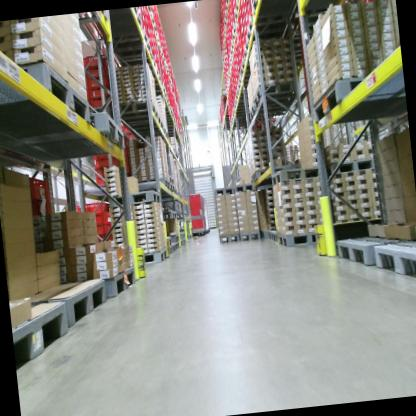pallet: (0, 56, 92, 139), (12, 105, 127, 158), (309, 68, 407, 125), (26, 270, 110, 335), (9, 298, 75, 377), (337, 230, 398, 277), (372, 238, 416, 287), (243, 11, 299, 47), (98, 263, 139, 303), (270, 162, 325, 188), (251, 78, 298, 108), (110, 27, 153, 59), (105, 186, 161, 210), (276, 228, 329, 253), (324, 155, 379, 179), (113, 97, 159, 122), (133, 171, 177, 197), (247, 96, 293, 120), (108, 7, 142, 32), (118, 53, 158, 74), (127, 112, 164, 133), (250, 0, 302, 13), (139, 244, 168, 266), (74, 10, 108, 24), (251, 167, 281, 182), (143, 126, 170, 141), (236, 71, 256, 90), (213, 183, 236, 199), (239, 228, 261, 241), (238, 56, 253, 75), (233, 180, 256, 192), (232, 105, 255, 117), (153, 82, 168, 99), (148, 67, 162, 85), (228, 113, 250, 124), (219, 233, 241, 243), (228, 120, 250, 130), (242, 39, 251, 63), (235, 87, 249, 102), (162, 207, 177, 221), (231, 97, 250, 107), (149, 13, 158, 34), (260, 227, 272, 241), (160, 92, 171, 106), (159, 46, 166, 65), (164, 105, 174, 118), (155, 33, 162, 51), (166, 170, 174, 185), (170, 145, 179, 158), (169, 232, 179, 243), (163, 60, 170, 75), (272, 231, 279, 242), (178, 230, 185, 240), (146, 5, 152, 16), (170, 181, 175, 194), (168, 243, 173, 256), (178, 190, 184, 200), (170, 243, 176, 253), (175, 240, 181, 250), (186, 230, 192, 240), (167, 233, 172, 244), (181, 236, 186, 247), (269, 229, 273, 239)
small_load_carrier: (28, 174, 52, 201), (85, 50, 110, 72), (86, 81, 112, 101), (30, 196, 54, 217), (81, 200, 110, 215), (85, 71, 109, 89), (93, 175, 116, 193), (86, 63, 110, 79), (92, 165, 114, 178), (90, 227, 104, 243), (102, 222, 116, 234), (92, 210, 103, 225), (103, 229, 115, 242), (93, 221, 104, 235), (102, 211, 114, 223)
